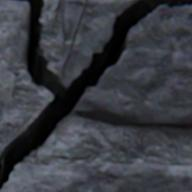brick: (0, 0, 25, 112)
broken_brick: (73, 7, 191, 129), (60, 0, 143, 90), (0, 163, 191, 191)
crack: (0, 0, 191, 189)
